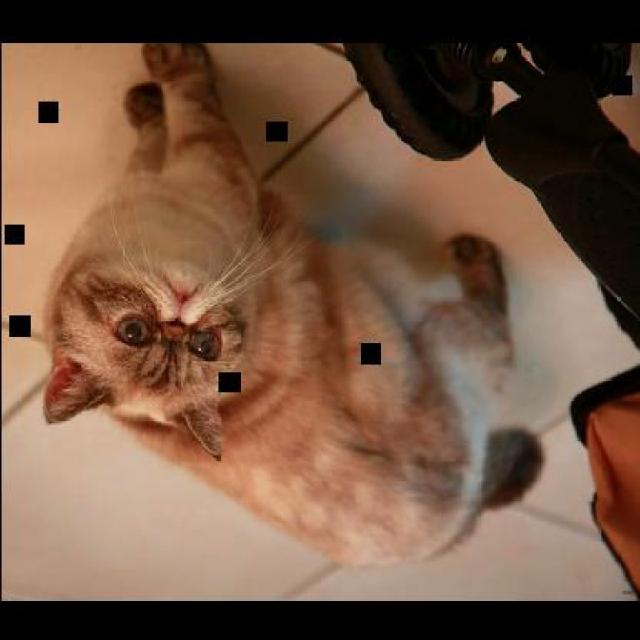unauthorized: (40, 41, 545, 568)
